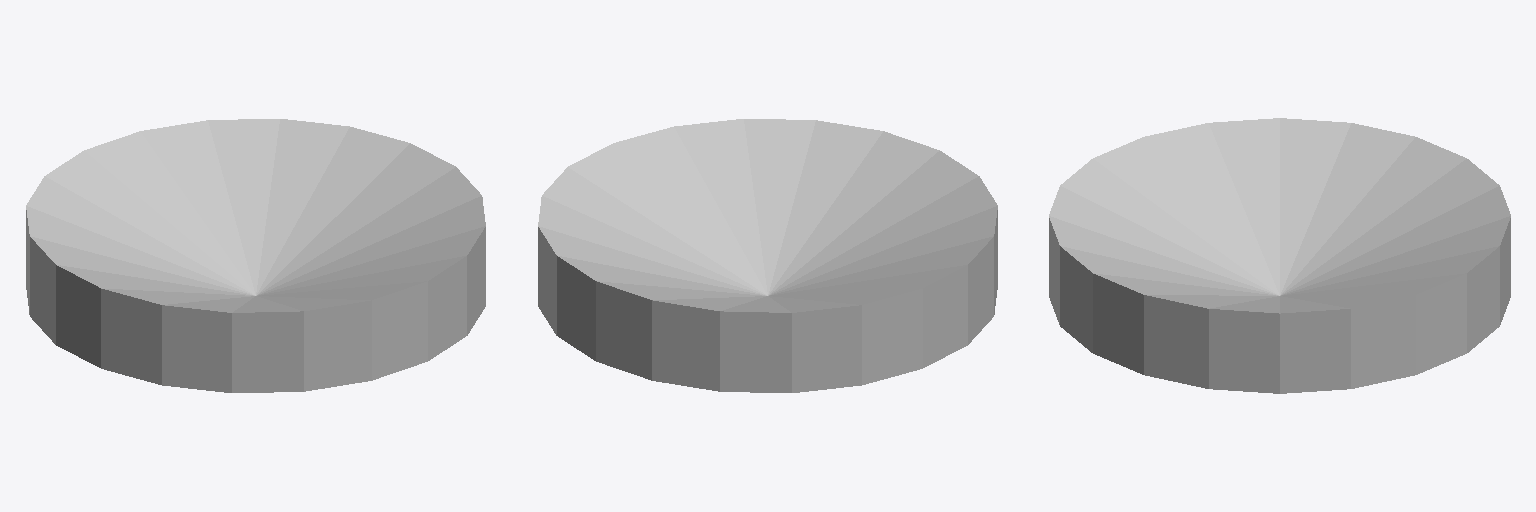
Rendered from earth_base.obj.
3 renders of one model, left to right at view 1: azimuth 30°, elevation 25°; view 2: azimuth 150°, elevation 25°; view 3: azimuth 270°, elevation 25°, orthographic.
Parts seen in each view (by area): view 1: pCylinder1; view 2: pCylinder1; view 3: pCylinder1.
Boxes of the visible parts, x1,y1,x2,y2 form: pCylinder1: [26, 119, 485, 392]; pCylinder1: [538, 119, 997, 392]; pCylinder1: [1049, 118, 1510, 393].
Bounding box in the file's own units: 2 × 0.3836 × 2.